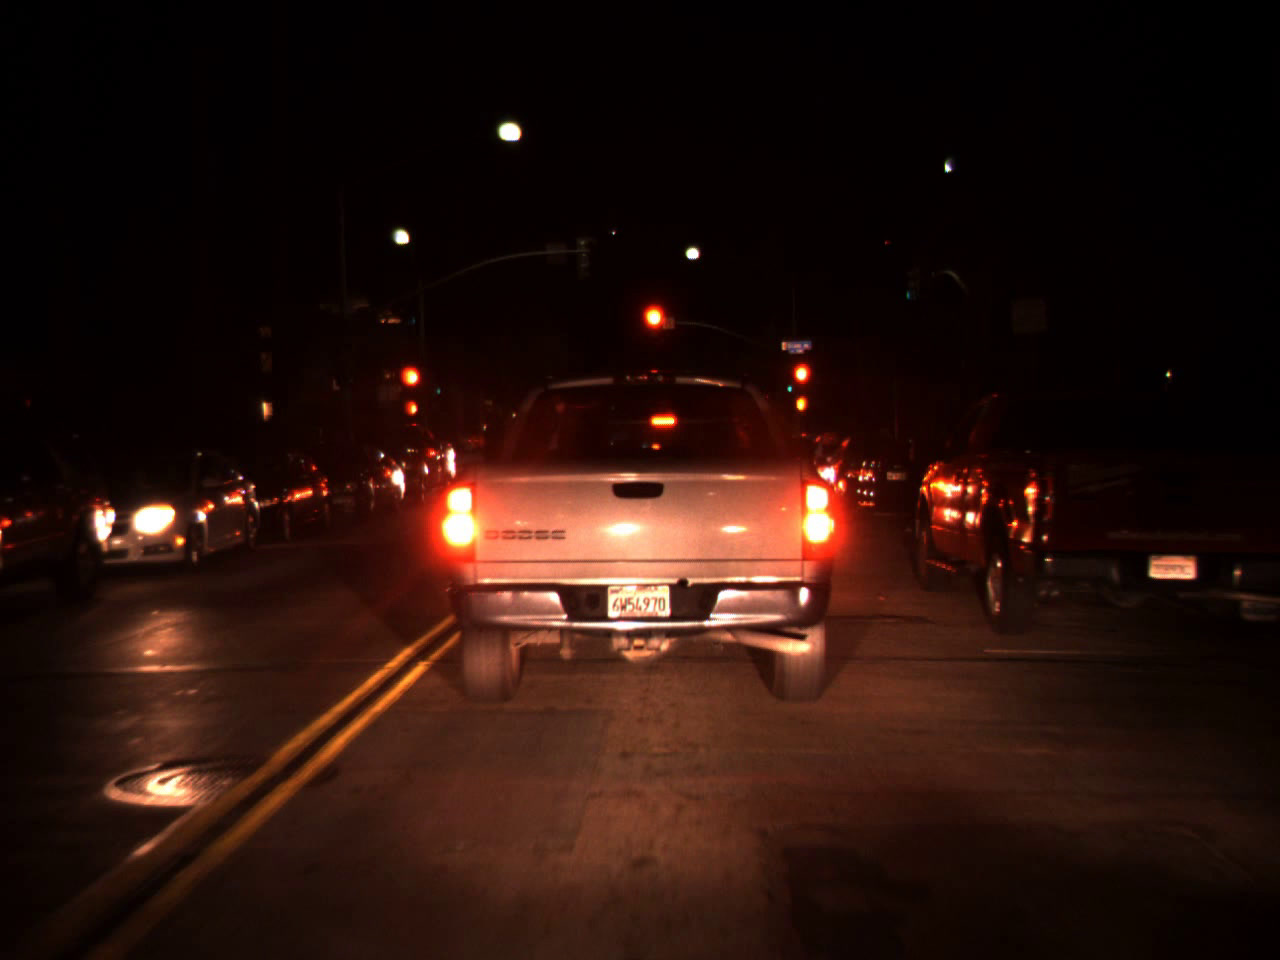stop: (638, 301, 669, 359), (790, 359, 814, 413), (397, 363, 424, 411)
